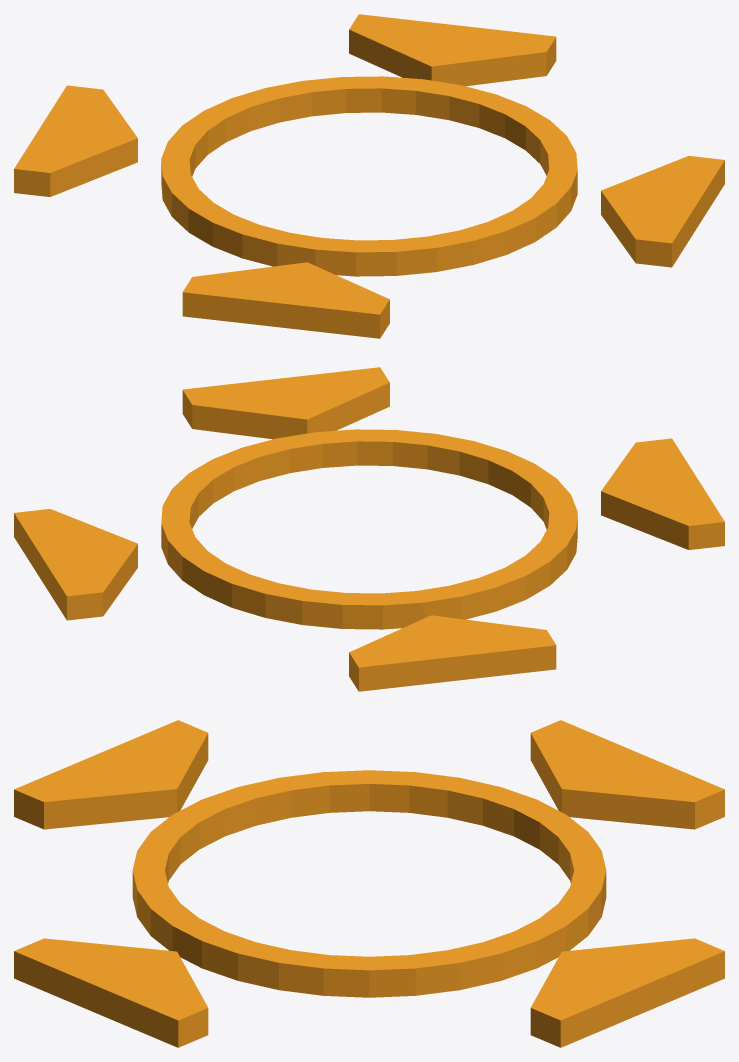
Rendered from SM_Icon_SelectionRing_01.fbx.
The picture shows the model from 3 angles, top to bottom: view 1: azimuth 30°, elevation 25°; view 2: azimuth 150°, elevation 25°; view 3: azimuth 270°, elevation 25°; orthographic projection. The views are drawn at different scales.
Visible parts, largest first — view 1: SM_Icon_SelectionRing_01; view 2: SM_Icon_SelectionRing_01; view 3: SM_Icon_SelectionRing_01.
Boxes of the visible parts, left/top/right/bottom form: SM_Icon_SelectionRing_01: left=14, top=14, right=724, bottom=338; SM_Icon_SelectionRing_01: left=14, top=367, right=724, bottom=691; SM_Icon_SelectionRing_01: left=14, top=720, right=724, bottom=1047.
Bounding box in the file's own units: 86.45 × 3.67 × 86.45.
